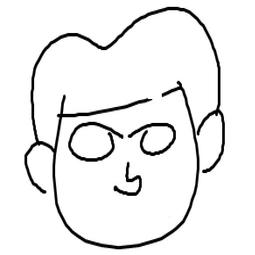ear: (19, 140, 62, 196), (197, 105, 226, 177)
empty_eye: (63, 120, 117, 164), (136, 117, 178, 158)
nose: (114, 160, 145, 197)
